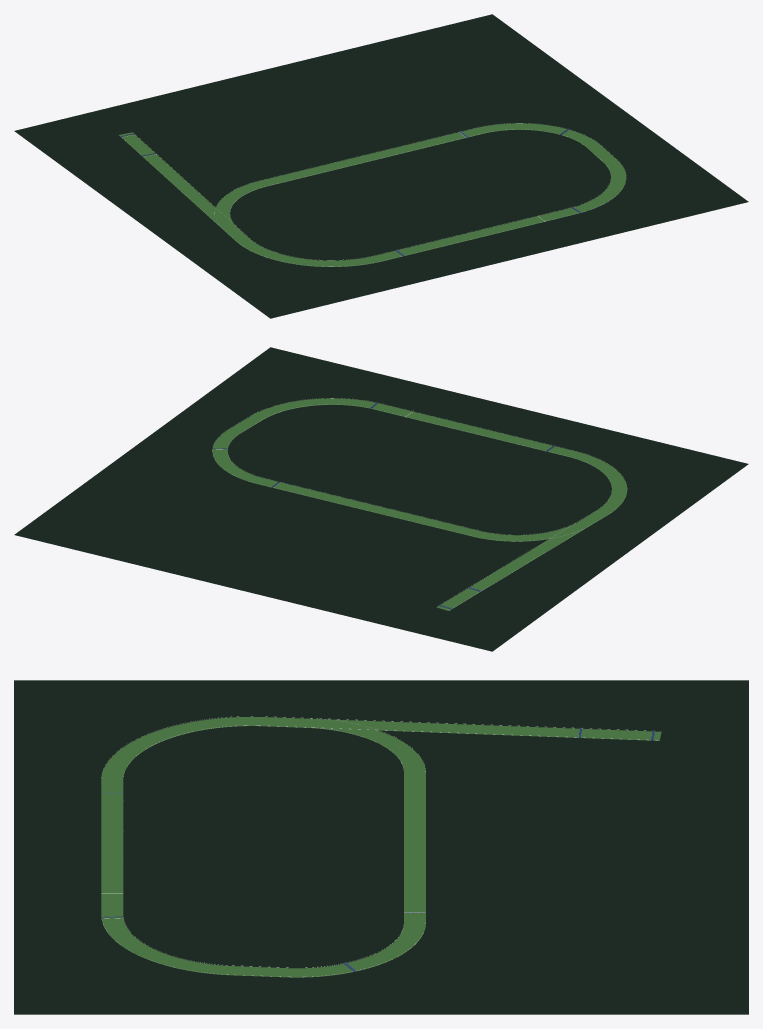
File: caulfield.glb
3 renders of one model, top to bottom at view 1: azimuth 30°, elevation 25°; view 2: azimuth 150°, elevation 25°; view 3: azimuth 270°, elevation 25°, orthographic. The views are drawn at different scales.
Visible parts, largest first — view 1: Terrain, Surface; view 2: Terrain, Surface; view 3: Terrain, Surface.
Part boxes in pixels (box(x1,y1,x2,y2)): Terrain: box(14, 14, 748, 318); Surface: box(119, 123, 626, 266); Terrain: box(14, 347, 748, 651); Surface: box(212, 398, 627, 610); Terrain: box(14, 680, 748, 1014); Surface: box(101, 717, 661, 977).
Bounding box in the file's own units: 1087 × 4.8 × 1010.
